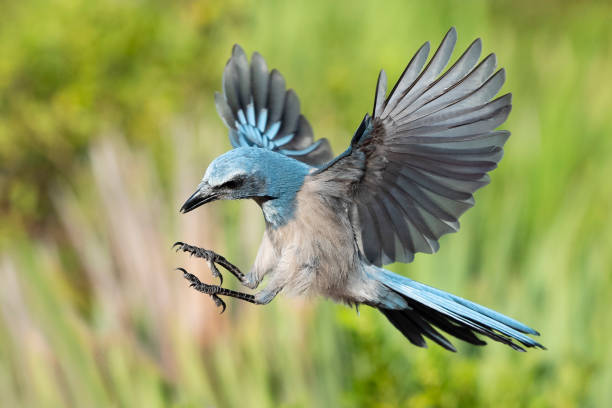Bird: (159, 24, 549, 365)
